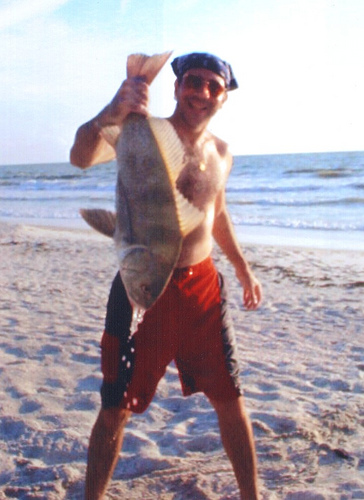fish: (80, 48, 206, 311)
